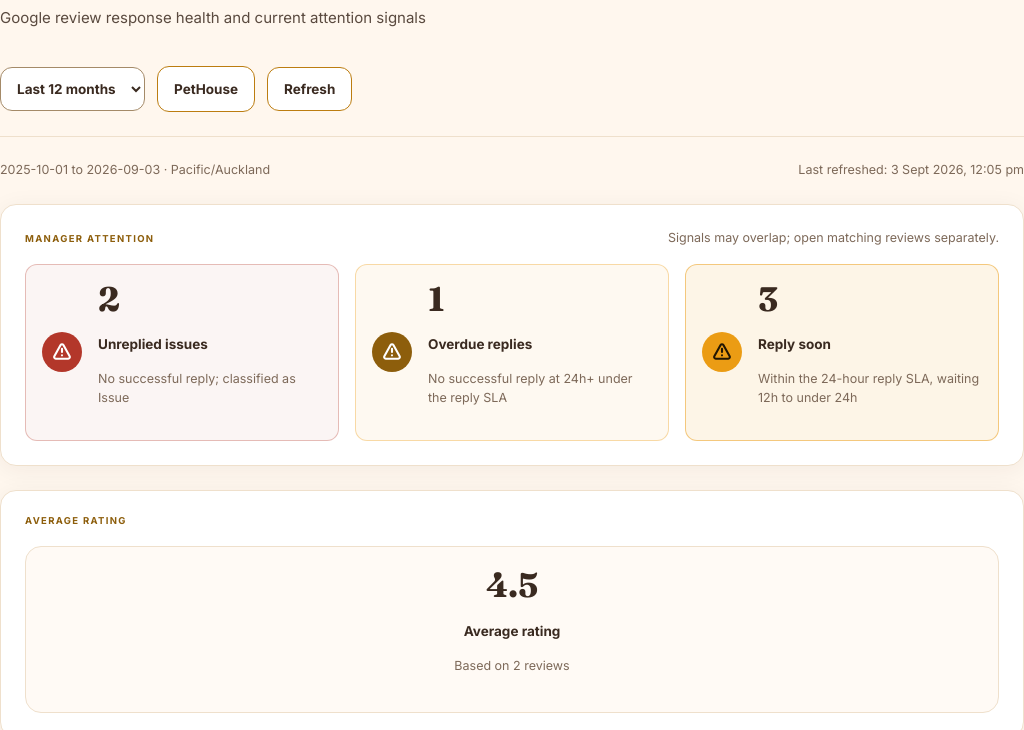
GoogleReviewDashboard › navigates from Manager Attention to the Google Reviews page
Click the link with aria-label "1 Overdue replies. Open matching Google reviews." at point(512, 352), box x1=355 y1=264 x2=669 y2=441
(page scrolled)
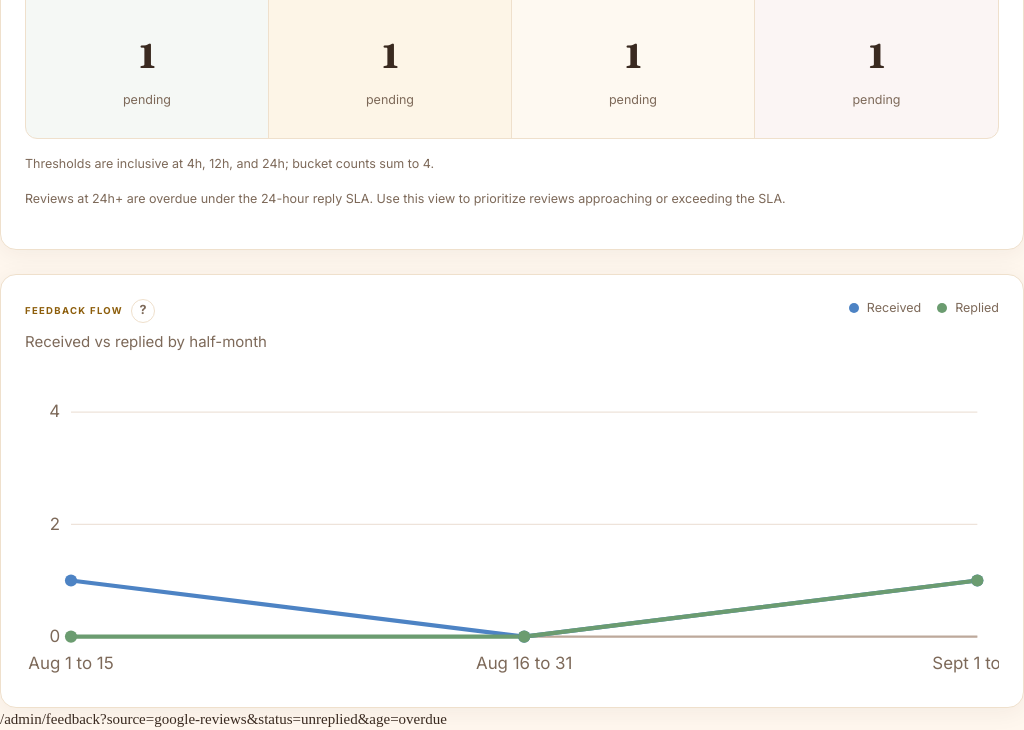
Check: the text with test id "dashboard-location" reads "/admin/feedback?source=google-reviews&status=unreplied&age=overdue", box x1=0 y1=711 x2=447 y2=727
